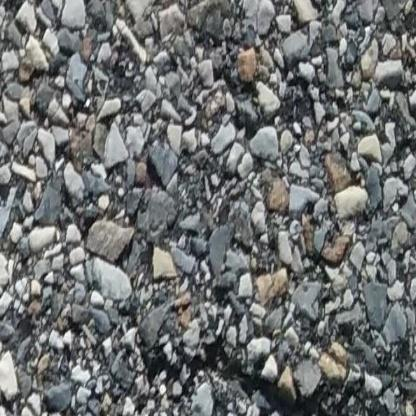Cracks: (203, 348, 416, 416)
